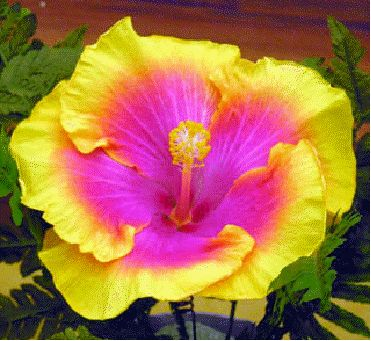Hibiscus: (23, 22, 354, 322)
